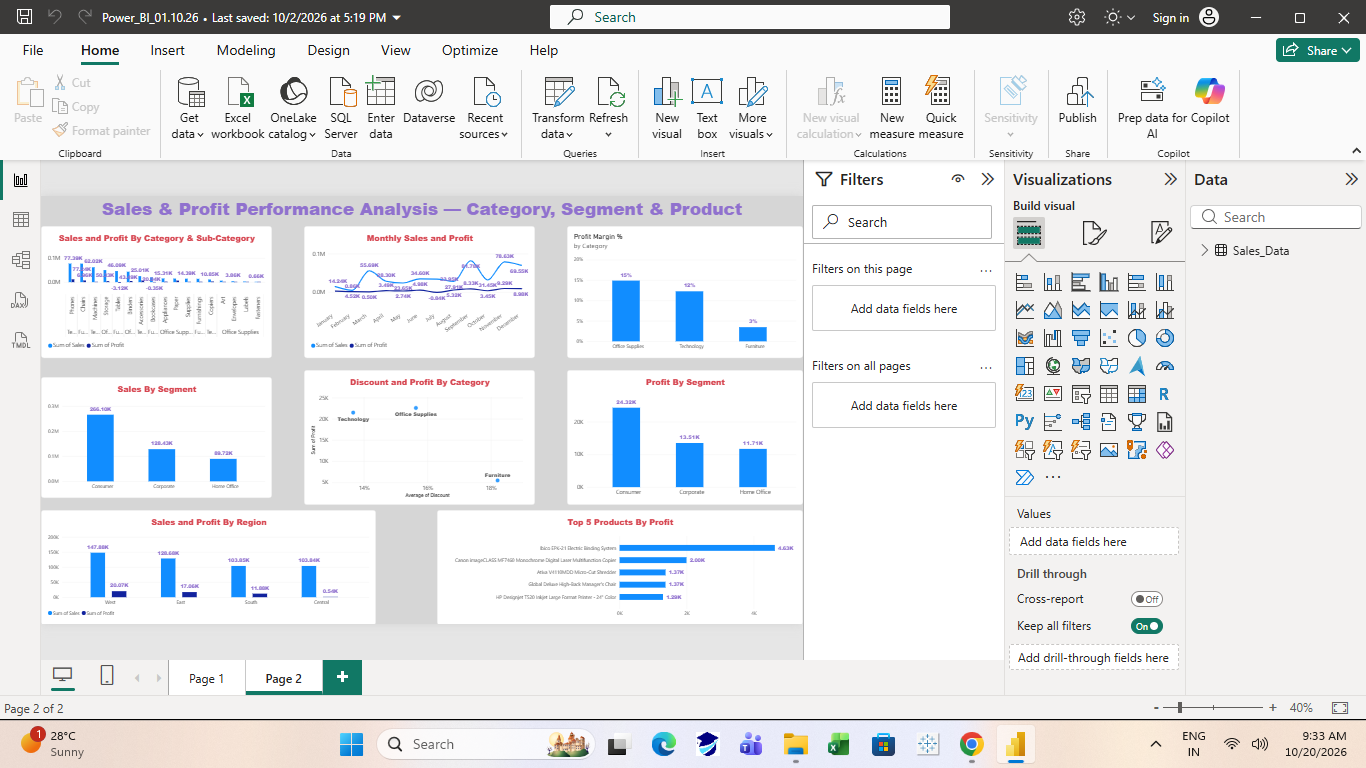

What the dashboard file says about the page in this screenshot:
{"tool":"powerbi","page":{"name":"Page 2","canvas":[1920,1080],"ordinal":1},"visuals":[{"type":"clusteredColumnChart","title":"Sales and Profit By Category & Sub-Category","fields":{"Category":["Sales_Data.Category","Sales_Data.Sub-Category"],"Y":["Sum(Sales_Data.Sales)","Sum(Sales_Data.Profit)"]},"box":[0,75.6,582,332.6],"z":0},{"type":"lineChart","title":"Monthly Sales and  Profit","fields":{"Category":["Sales_Data.Order Date.Variation.Date Hierarchy.Month"],"Y":["Sum(Sales_Data.Sales)","Sum(Sales_Data.Profit)"]},"box":[662.7,75.6,582,332.6],"z":1},{"type":"clusteredColumnChart","fields":{"Category":["Sales_Data.Category"],"Y":["Sales_Data.Profit Margin %"]},"box":[1325.4,75.6,594.6,332.6],"z":2},{"type":"clusteredColumnChart","title":"Sales By Segment","fields":{"Y":["Sum(Sales_Data.Sales)"],"Category":["Sales_Data.Segment"]},"box":[0,456.9,582,304.9],"z":3},{"type":"scatterChart","title":" Discount and Profit By Category","fields":{"X":["Avg(Sales_Data.Discount)"],"Y":["Sum(Sales_Data.Profit)"],"Category":["Sales_Data.Category"]},"box":[662.7,439.3,582,340.2],"z":4},{"type":"clusteredColumnChart","title":"Profit By Segment","fields":{"Category":["Sales_Data.Segment"],"Y":["Sum(Sales_Data.Profit)"]},"box":[1325.4,439.3,594.6,340.2],"z":5},{"type":"clusteredColumnChart","title":"Sales and Profit By Region","fields":{"Category":["Sales_Data.Region"],"Y":["Sum(Sales_Data.Sales)","Sum(Sales_Data.Profit)"]},"box":[0,790.2,844.1,289.8],"z":6},{"type":"clusteredBarChart","title":"Top 5 Products By Profit","fields":{"Y":["Sum(Sales_Data.Profit)"],"Category":["Sales_Data.Product Name"]},"box":[997.8,791.2,922.2,289.8],"z":7},{"type":"textbox","box":[0,0,1920,75.6],"z":8}]}

Visuals, with their boxes on the page's 1920x1080 design canvas (x1, y1, x2, y2). These are canvas units, not pixel positions in the 1366x768 screenshot, which may show the page scaled, cropped or inside an application window:
"Sales and Profit By Category & Sub-Category" clusteredColumnChart: select_region(0, 76, 582, 408)
"Monthly Sales and  Profit" lineChart: select_region(663, 76, 1245, 408)
clusteredColumnChart - Sales_Data.Category x Sales_Data.Profit Margin %: select_region(1325, 76, 1920, 408)
"Sales By Segment" clusteredColumnChart: select_region(0, 457, 582, 762)
" Discount and Profit By Category" scatterChart: select_region(663, 439, 1245, 780)
"Profit By Segment" clusteredColumnChart: select_region(1325, 439, 1920, 780)
"Sales and Profit By Region" clusteredColumnChart: select_region(0, 790, 844, 1080)
"Top 5 Products By Profit" clusteredBarChart: select_region(998, 791, 1920, 1081)
textbox: select_region(0, 0, 1920, 76)
